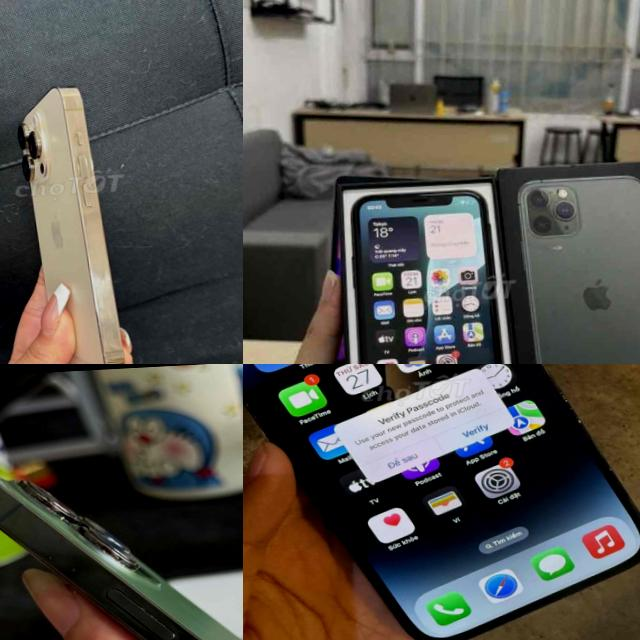scratch: (40, 547, 89, 581)
